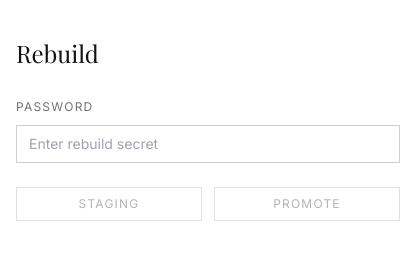
it: RebuildPage › shows error when json() throws a non-SyntaxError
The image size is (417, 265).
Type "mysecret" into the password field labelled "Password".
click(208, 144); type("mysecret")  # box [16,125,400,163]
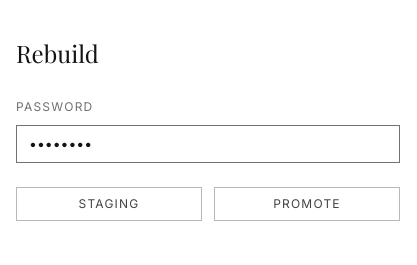
Click the button "Staging".
click(109, 204)  # box [16,187,202,221]
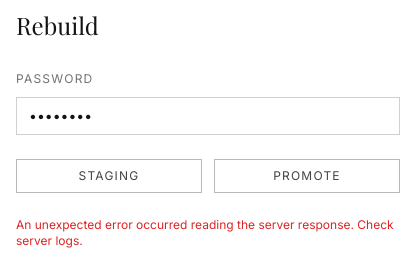
Result: the text "unexpected error occurred reading" is shown at [16,217,394,248]
